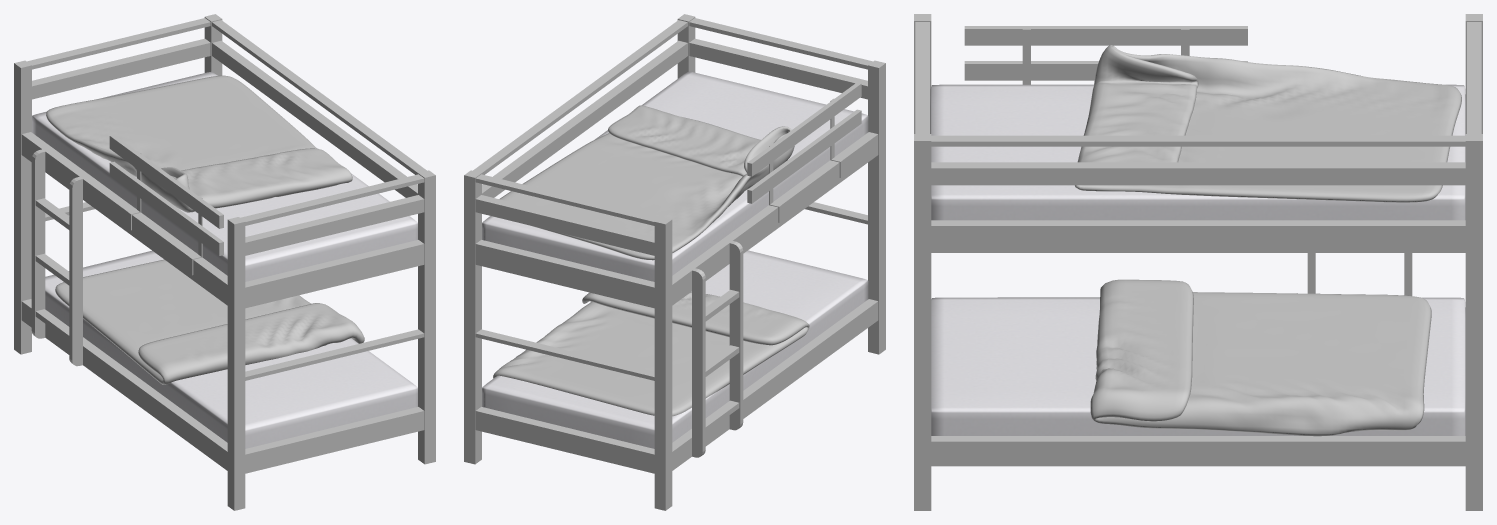
The model's file is Bed23.fbx.
3 renders of one model, left to right at view 1: azimuth 30°, elevation 25°; view 2: azimuth 150°, elevation 25°; view 3: azimuth 270°, elevation 25°, orthographic. The views are drawn at different scales.
Visible parts, largest first — view 1: BedFrame23, Blanket23_2, Blanket23_1, Mattress23_1, Mattress23_2; view 2: BedFrame23, Blanket23_2, Blanket23_1, Mattress23_1, Mattress23_2; view 3: BedFrame23, Blanket23_1, Blanket23_2, Mattress23_1, Mattress23_2.
Boxes of the visible parts, box(x1,y1,x2,y2) form: BedFrame23: box(14, 14, 435, 510); Blanket23_2: box(46, 75, 352, 212); Blanket23_1: box(55, 259, 364, 384); Mattress23_1: box(45, 250, 417, 448); Mattress23_2: box(32, 71, 417, 281); BedFrame23: box(464, 14, 885, 510); Blanket23_2: box(499, 105, 794, 260); Blanket23_1: box(493, 292, 809, 416); Mattress23_1: box(482, 250, 868, 448); Mattress23_2: box(482, 71, 868, 281); BedFrame23: box(914, 14, 1482, 510); Blanket23_1: box(1090, 279, 1431, 436); Blanket23_2: box(1075, 45, 1461, 202); Mattress23_1: box(931, 297, 1465, 435); Mattress23_2: box(930, 84, 1465, 220).
Bounding box in the file's own units: 125 × 161 × 224.
